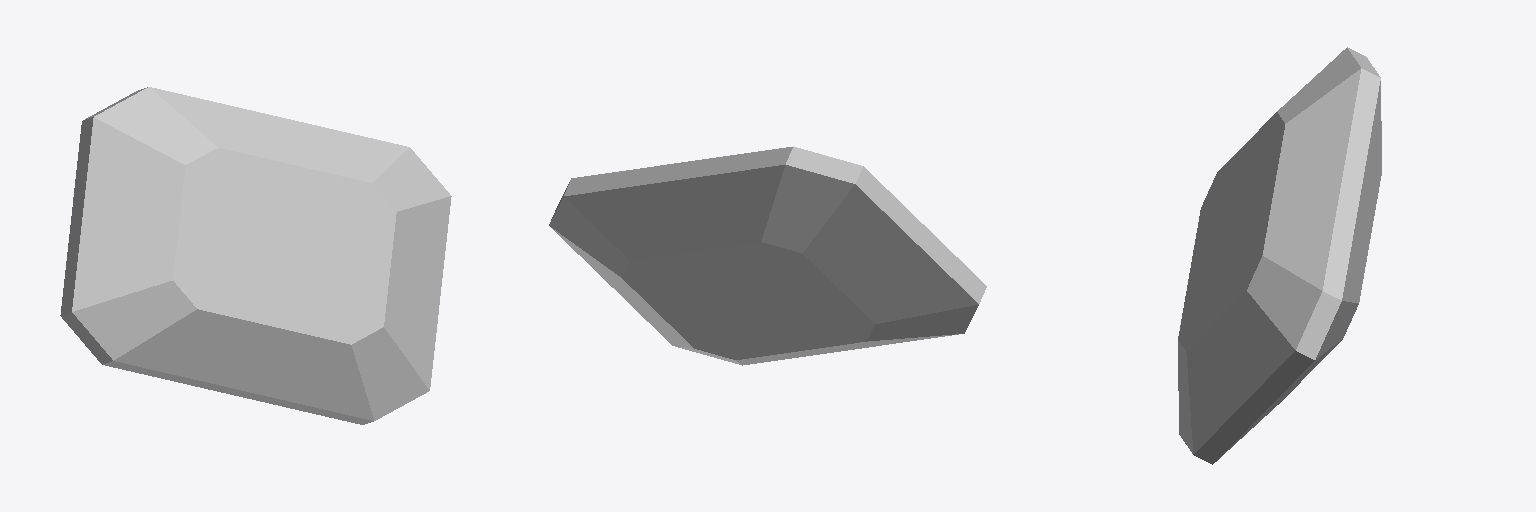
Rendered from Emerald.obj.
The picture shows the model from 3 angles: view 1: azimuth 30°, elevation 25°; view 2: azimuth 150°, elevation 25°; view 3: azimuth 270°, elevation 25°; orthographic projection.
Visible parts, largest first — view 1: Cylinder_Cylinder.001; view 2: Cylinder_Cylinder.001; view 3: Cylinder_Cylinder.001.
Part boxes in pixels (left/top/right/bottom): Cylinder_Cylinder.001: left=60, top=87, right=451, bottom=424; Cylinder_Cylinder.001: left=549, top=146, right=986, bottom=365; Cylinder_Cylinder.001: left=1178, top=47, right=1381, bottom=464.
Size of the model in its own units: 45.06 by 32.93 by 19.59.